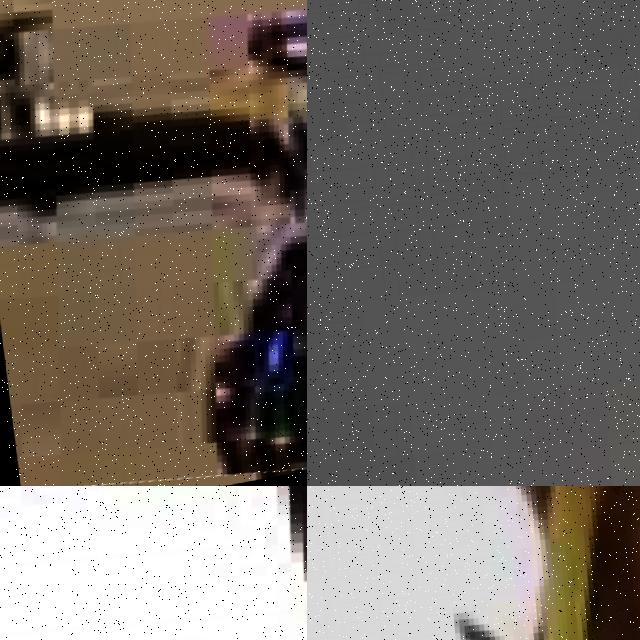drone: (0, 0, 307, 486), (0, 486, 307, 640)
